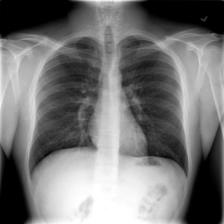normal: (24, 32, 192, 183)
